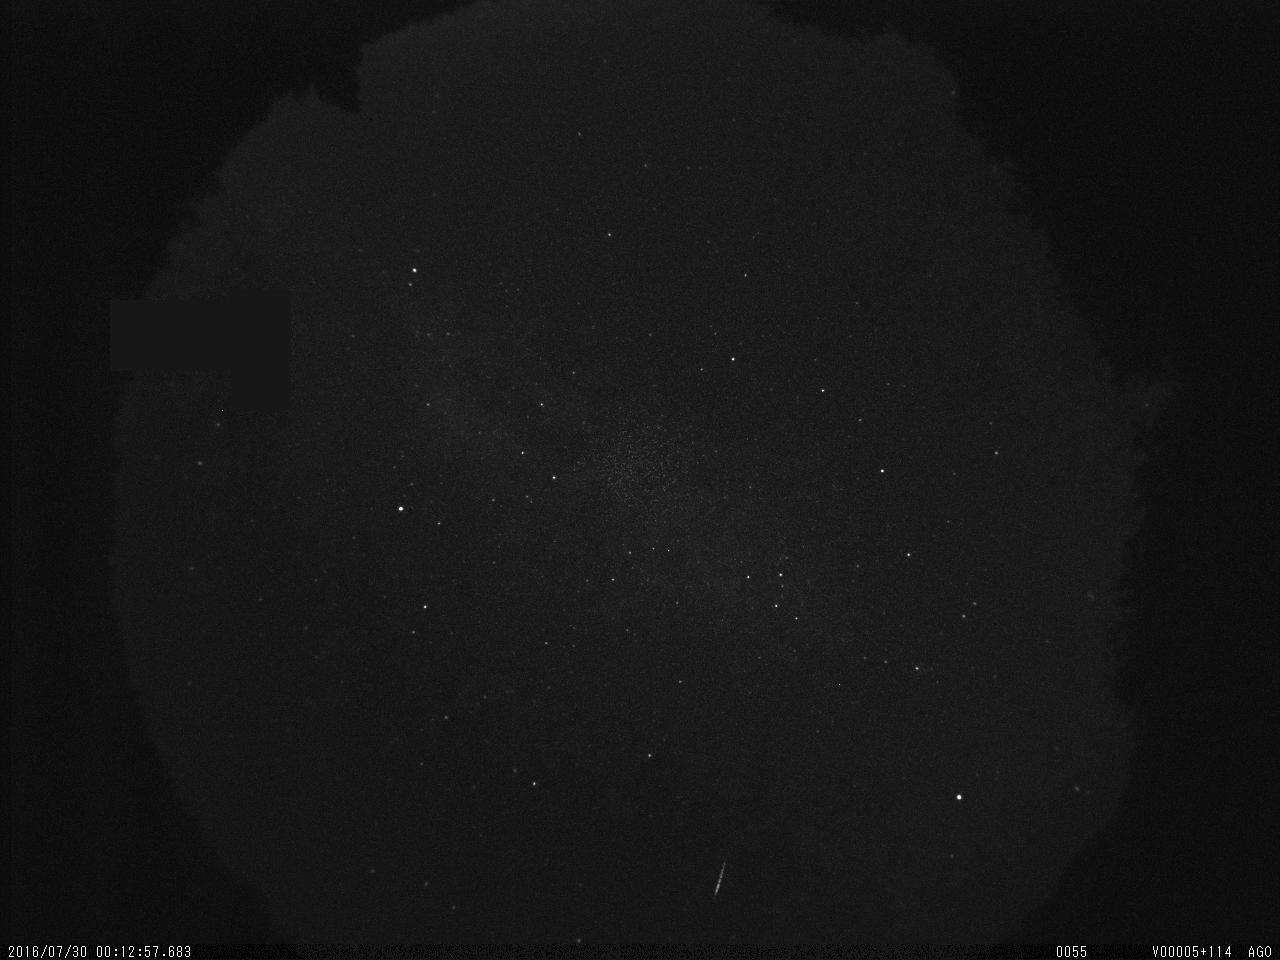meteor: (707, 849, 736, 901)
